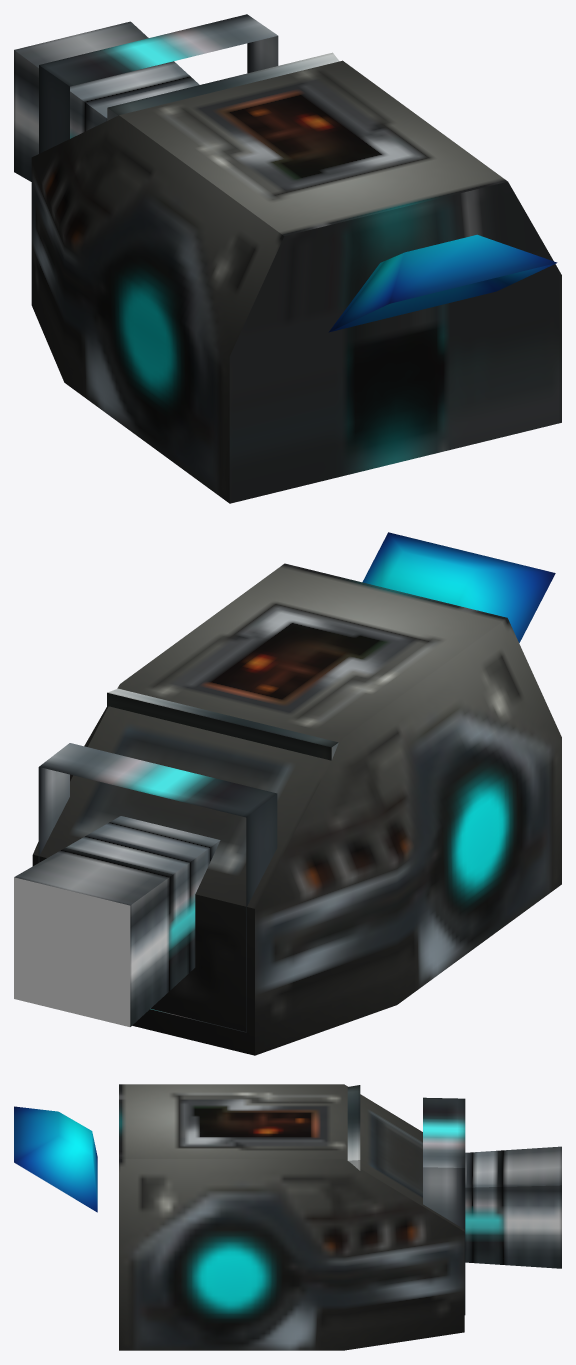
File: acs57b.obj
3 views of the same model, one above another, from view 1: azimuth 30°, elevation 25°; view 2: azimuth 150°, elevation 25°; view 3: azimuth 270°, elevation 25° (orthographic). The views are drawn at different scales.
Visible parts, largest first — view 1: frm-webas1, frm-wepbas2, frm-wepbar2, frm-wepbas3, frm-webar1; view 2: frm-webas1, frm-wepbar2, frm-wepbas3, frm-wepbas2, frm-webar1; view 3: frm-webas1, frm-wepbar2, frm-wepbas2, frm-wepbas3, frm-webar1.
Part boxes in pixels (x1,y1,x2,y2): frm-webas1: [31, 60, 561, 503]; frm-wepbas2: [328, 234, 557, 332]; frm-wepbar2: [14, 21, 199, 181]; frm-wepbas3: [39, 14, 278, 153]; frm-webar1: [107, 52, 339, 120]; frm-webas1: [32, 563, 561, 1055]; frm-wepbar2: [14, 816, 220, 1026]; frm-wepbas3: [38, 743, 277, 1032]; frm-wepbas2: [362, 532, 555, 642]; frm-webar1: [107, 688, 338, 760]; frm-webas1: [119, 1084, 464, 1350]; frm-wepbar2: [465, 1146, 561, 1268]; frm-wepbas2: [14, 1106, 97, 1212]; frm-wepbas3: [423, 1097, 465, 1314]; frm-webar1: [347, 1085, 360, 1170].
Bounding box in the file's own units: 0.2846 × 0.2081 × 0.5956.
8 materials, 7 textured.
